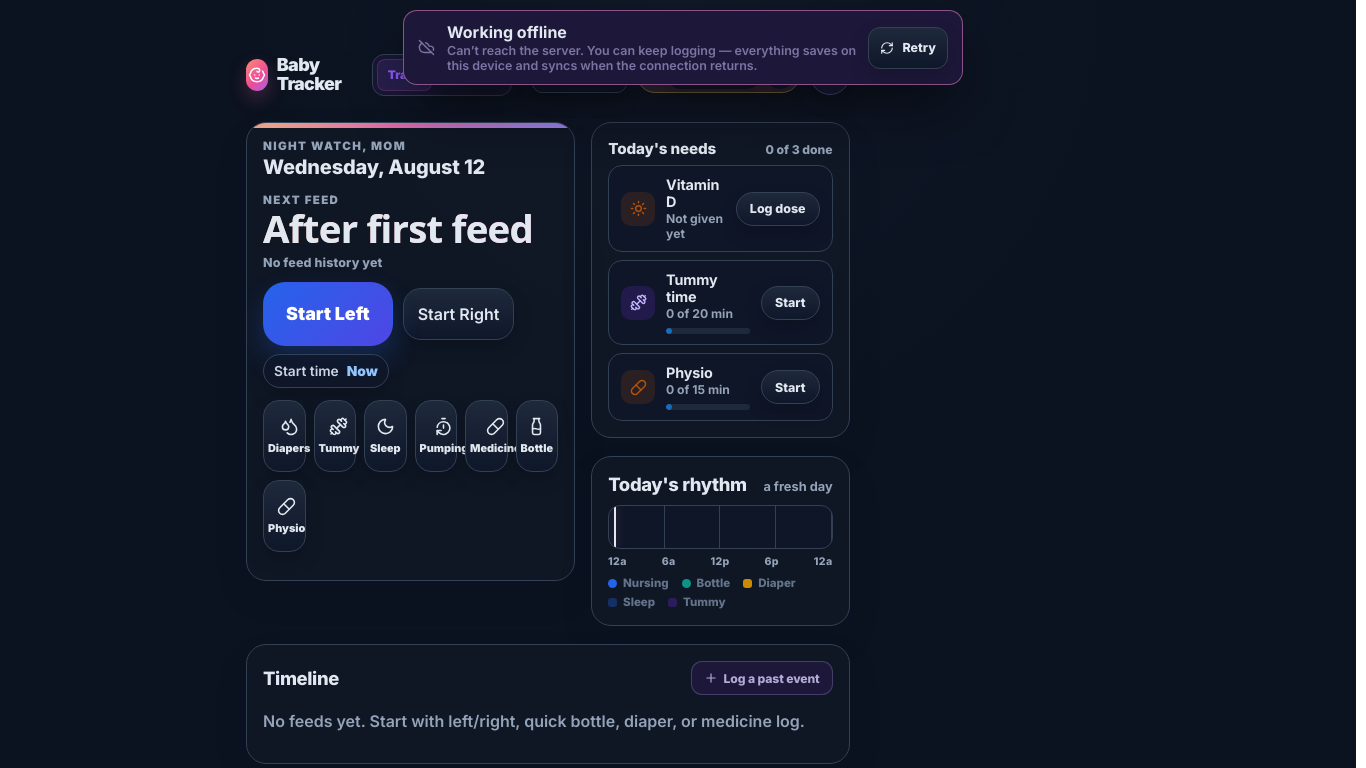
Test: caregiver-defined timers › runs in the shared care-timer slot, naming itself in the hero
Click the button with aria-label "Start Physio timer": (790, 387) [761,370,820,404]
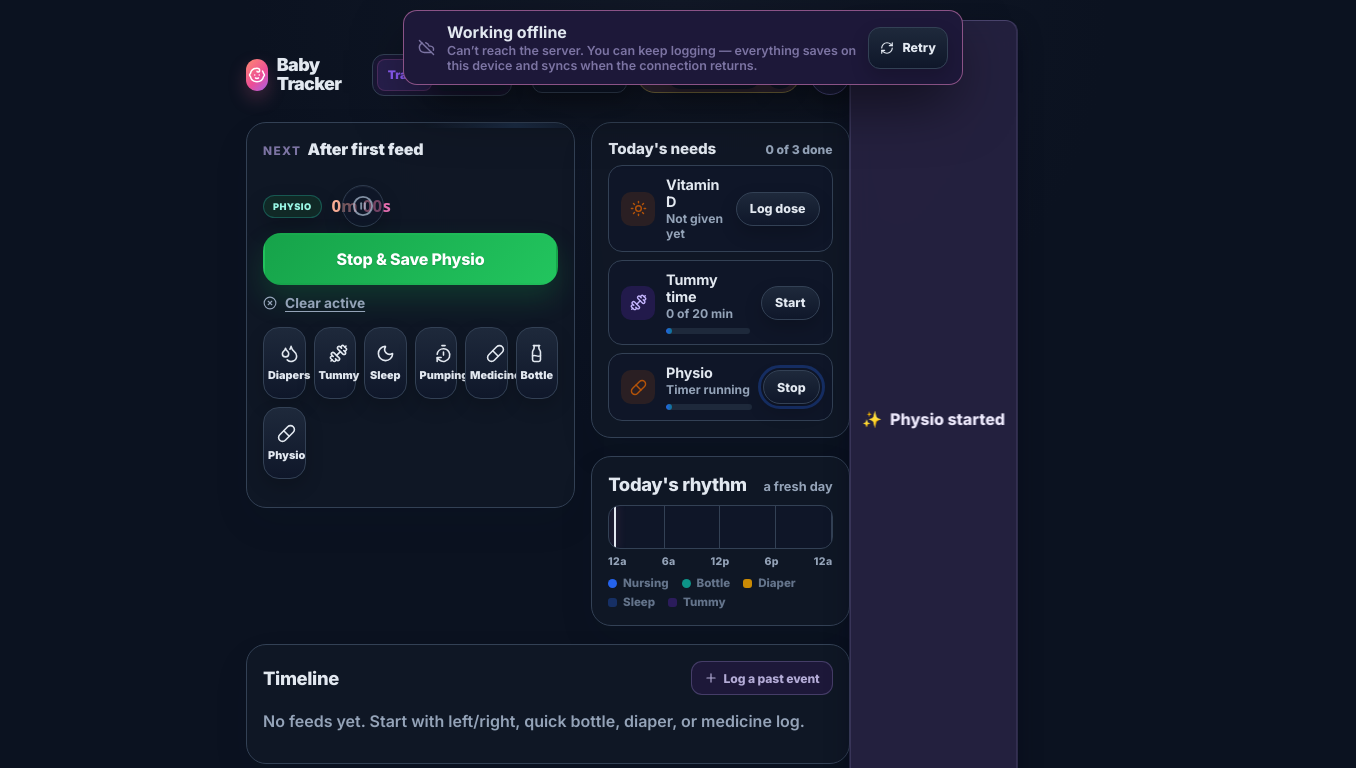
Expected: the text with class "timer-mode-pill" reads "Physio", [273,200,312,212]
Expected: the button "Stop & Save Physio" is shown, [263,233,558,285]
Expected: the button named "Pause Physio timer" is shown, [342,185,384,227]
